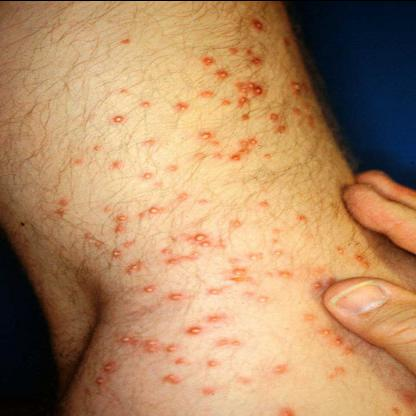Fire ant: (182, 230, 217, 260), (231, 135, 261, 166), (220, 96, 254, 120), (227, 43, 267, 63), (293, 98, 320, 126), (308, 264, 338, 288), (90, 360, 119, 384), (104, 204, 128, 232), (232, 76, 269, 94), (268, 109, 289, 137), (146, 336, 178, 354), (197, 125, 223, 145), (226, 249, 266, 262), (332, 336, 358, 356), (178, 188, 210, 204), (227, 264, 255, 282), (110, 237, 135, 257), (54, 196, 76, 218), (158, 245, 178, 268), (115, 332, 140, 349), (198, 148, 226, 162), (242, 288, 270, 302), (83, 227, 102, 247), (269, 224, 286, 245), (354, 250, 370, 272), (326, 364, 348, 380), (139, 204, 163, 218), (249, 15, 268, 31), (269, 268, 294, 280), (160, 373, 182, 386), (210, 66, 230, 80), (271, 362, 293, 374), (288, 78, 306, 92), (230, 216, 248, 230), (124, 260, 145, 272), (140, 282, 158, 296), (275, 406, 302, 415), (280, 35, 295, 51), (199, 53, 219, 65), (218, 336, 242, 346), (185, 325, 207, 335), (110, 112, 128, 124), (140, 135, 158, 147), (200, 385, 218, 396), (390, 402, 406, 414), (207, 286, 228, 295), (174, 356, 192, 366), (302, 311, 320, 321), (297, 211, 313, 222), (334, 246, 351, 256), (263, 150, 277, 162), (166, 292, 184, 301), (198, 88, 218, 96), (272, 248, 292, 256), (208, 312, 224, 322), (238, 376, 254, 386), (168, 162, 183, 172), (260, 197, 275, 207), (120, 36, 136, 45), (176, 101, 190, 111), (91, 143, 105, 153), (111, 159, 125, 169), (206, 359, 223, 367), (142, 170, 154, 181), (318, 327, 334, 335), (118, 85, 132, 94), (139, 98, 153, 107), (72, 156, 86, 165)
